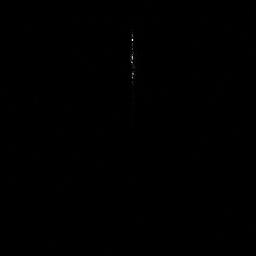ship: (128, 29, 134, 89)
